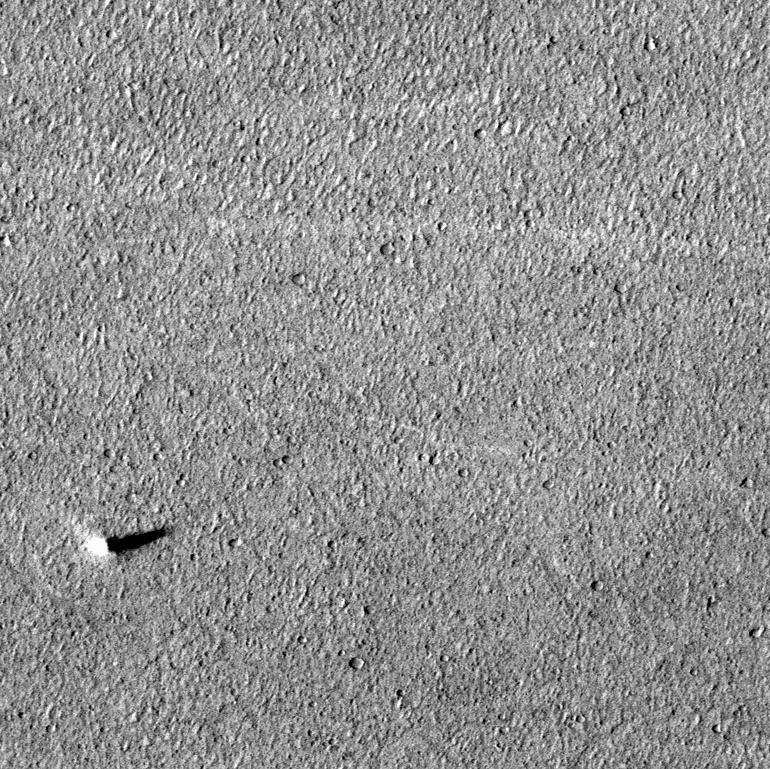dust_devil: (83, 522, 174, 559)
